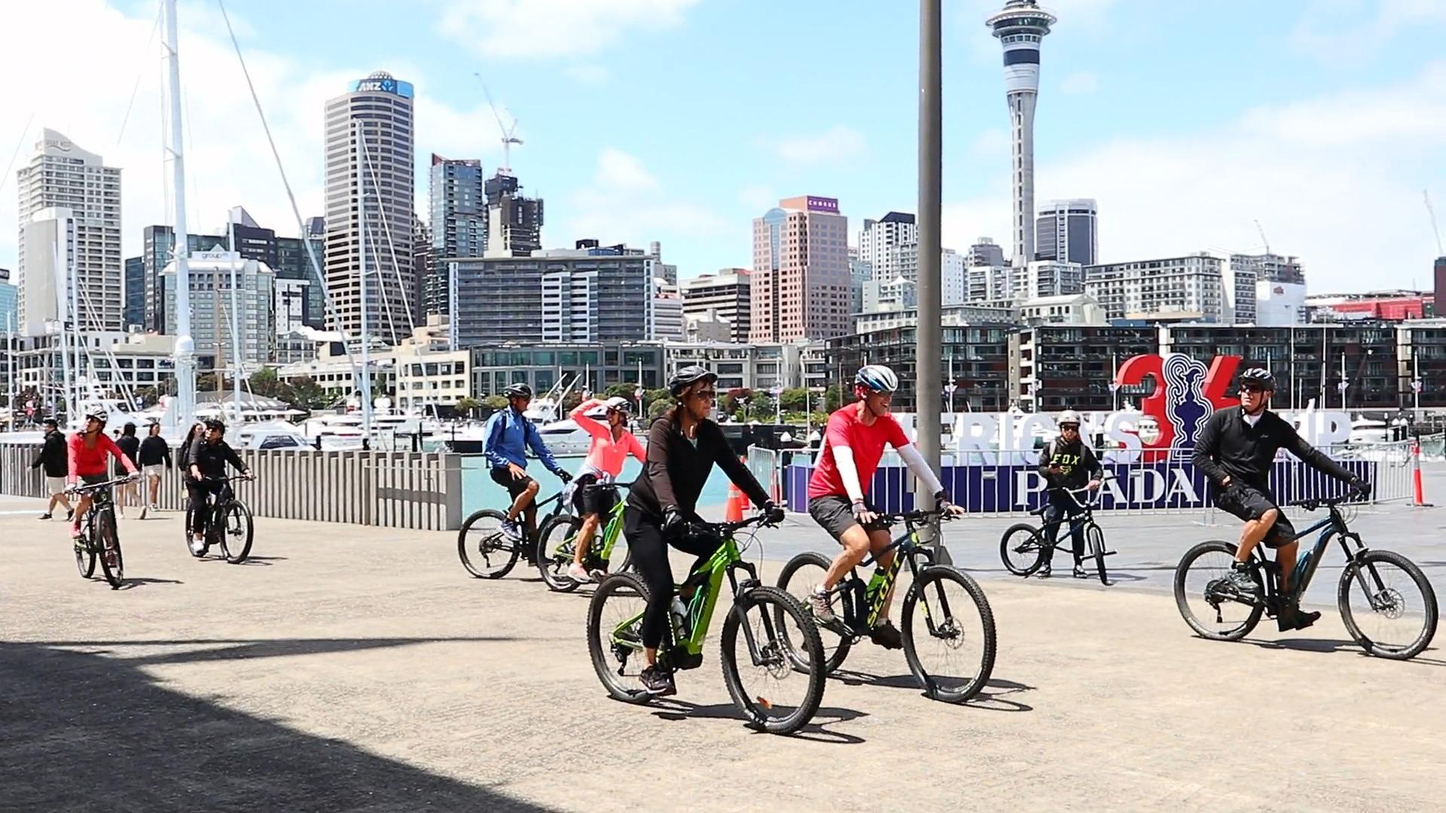bicyclist: (586, 365, 827, 735), (1175, 368, 1440, 660), (775, 364, 996, 703), (458, 383, 632, 583), (538, 396, 646, 592), (61, 407, 141, 589), (186, 418, 257, 564)
helmet: (668, 365, 717, 423), (853, 364, 899, 418), (1237, 367, 1277, 420), (503, 383, 532, 413), (603, 396, 631, 427), (1057, 410, 1081, 445), (83, 407, 108, 434)
